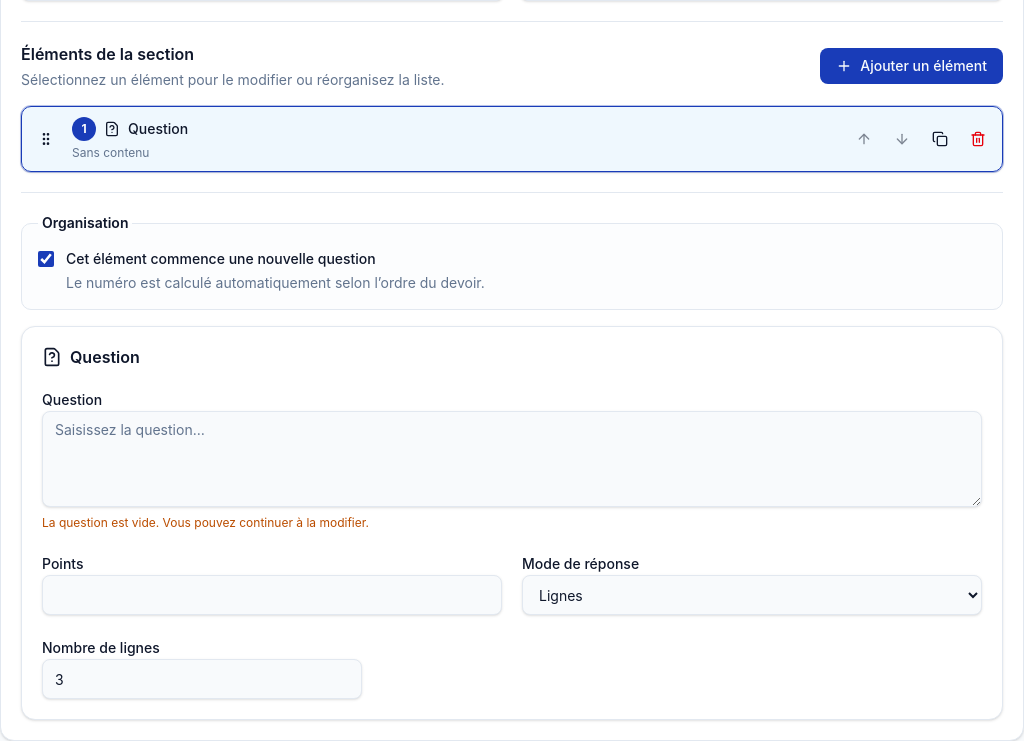
Block CRUD UI › shows local validation without storing negative points
(page scrolled)
In the number field labelled "Points": (272,595) x1=42 y1=575 x2=502 y2=615, type "-1"
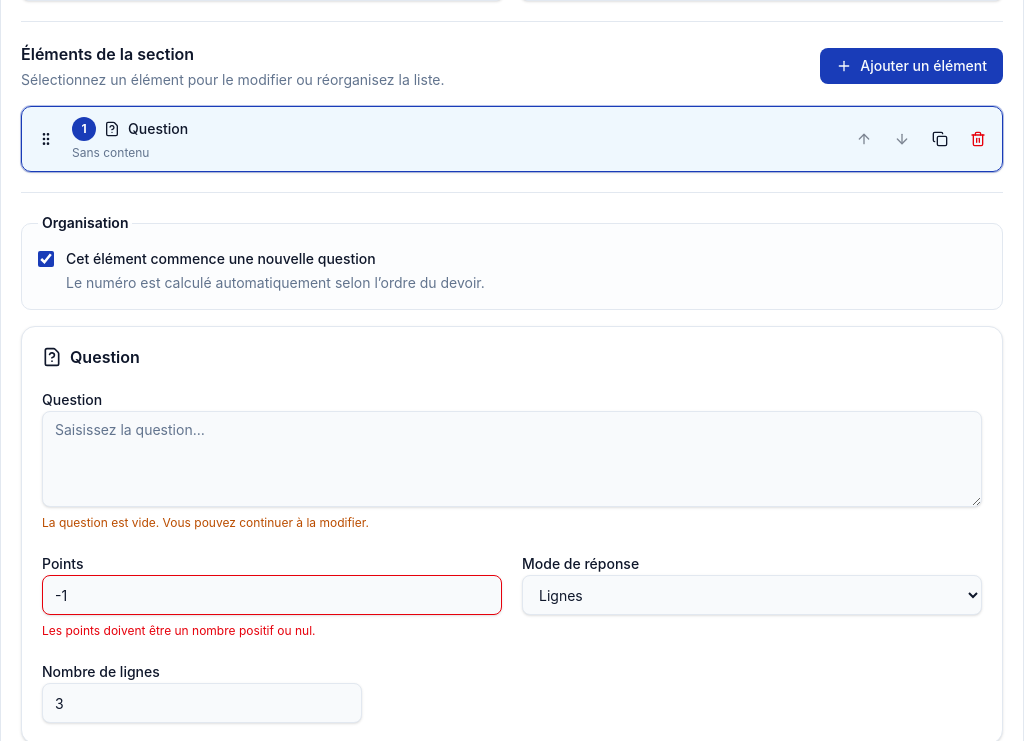
expect the text "Les points doivent être un nombre positif ou nul." is shown: met, box x1=42 y1=623 x2=316 y2=638
